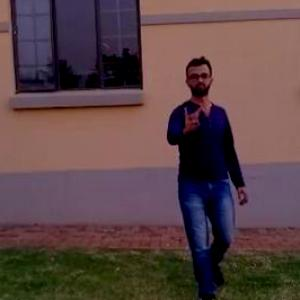takeoff-hand: (174, 102, 206, 138)
